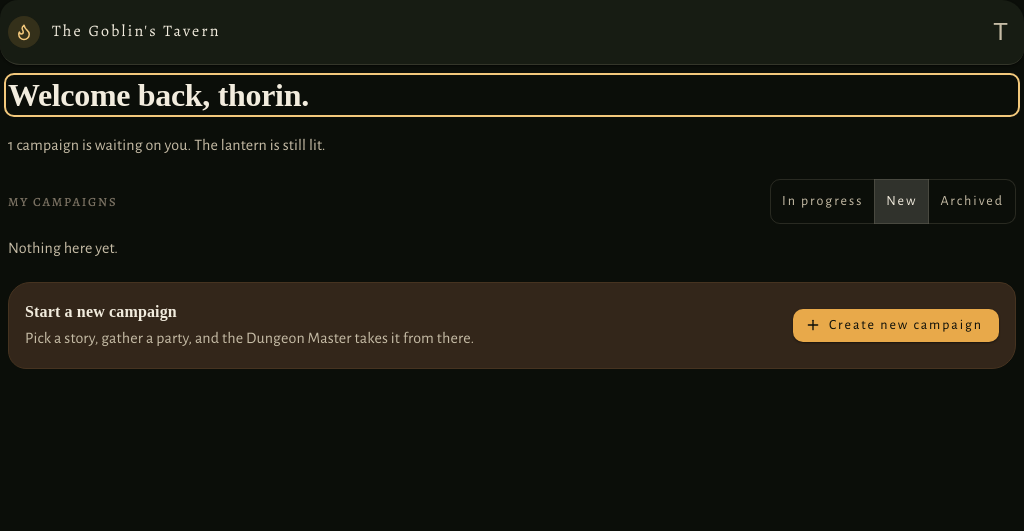
Test case: DashboardRoute on / (AC1-AC5) › AC3 (sprint 007/08): an archived run's card is muted with no open action, and the note above the list says runs are kept and view-only with no mention of unarch
Click the button "Archived" at {"x": 972, "y": 202}, box left=928, top=179, right=1016, bottom=224
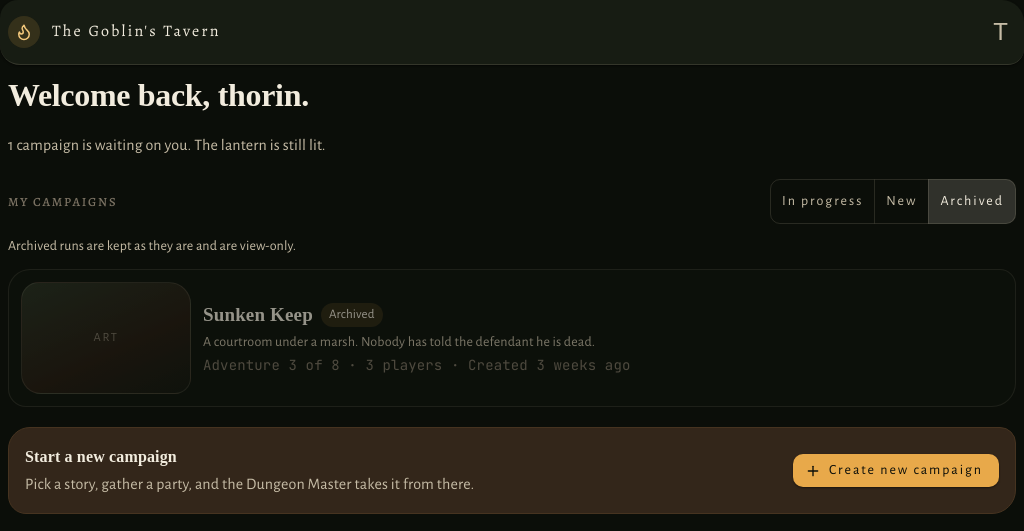
Check: the text "Sunken Keep" is shown, box left=203, top=300, right=313, bottom=330
Check: the text "Archived runs are kept as they are and are view-only." is shown, box left=8, top=239, right=296, bottom=253
